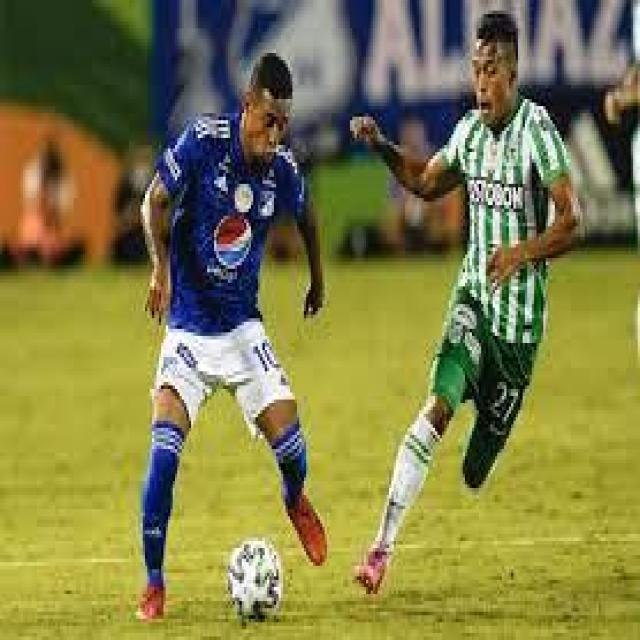Soccer Ball: (230, 537, 281, 619)
